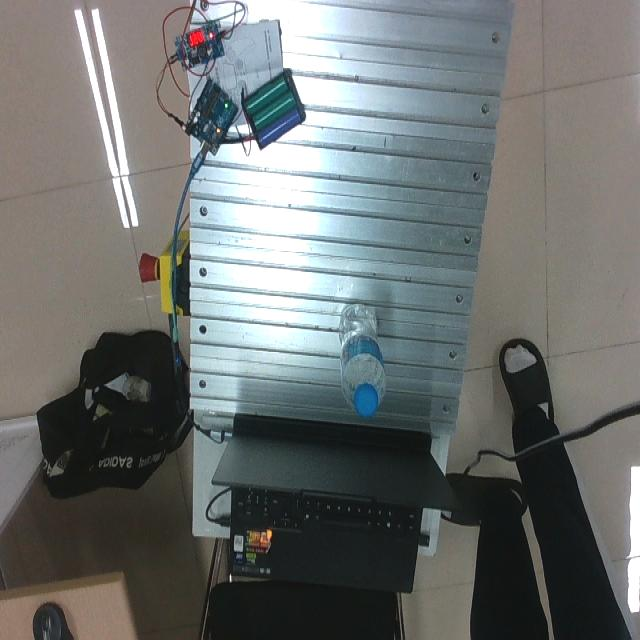lavie: (338, 304, 385, 416)
